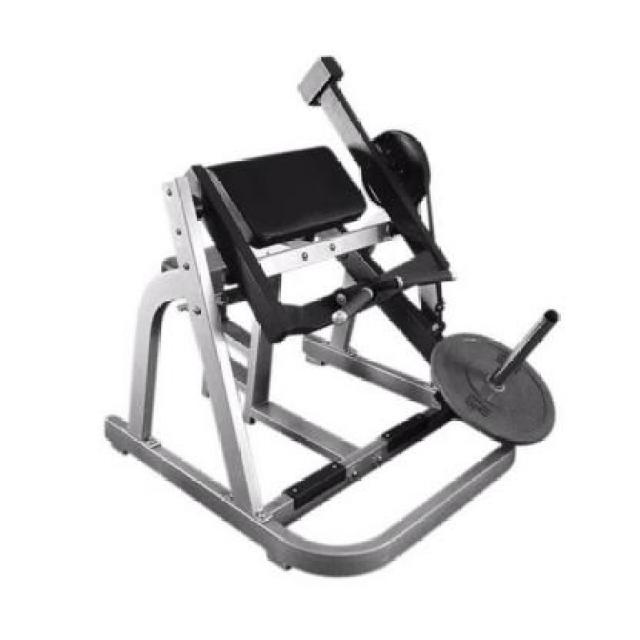arm curl machine: (106, 56, 562, 578)
